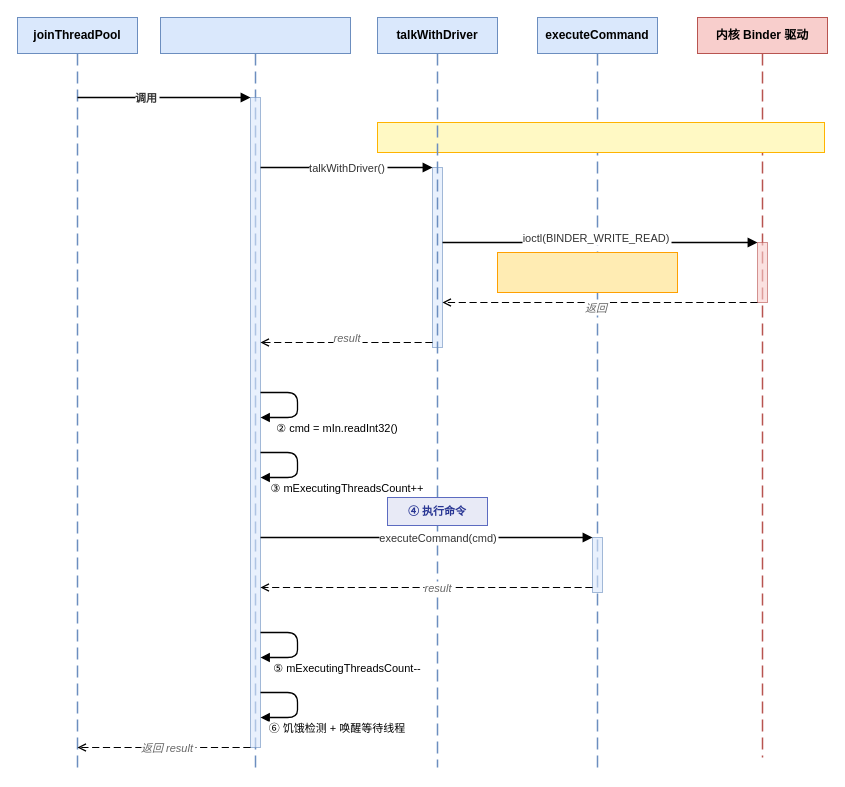
This 845x787 diagram has some shape labels left out. Each missing label, with the box of its shape:
getAndExecuteCommand: (160, 16, 350, 54)
mOut(BC_*) → 内核 内核 → mIn(BR_*): (496, 252, 678, 292)
① 与内核交换数据: (376, 122, 824, 152)
